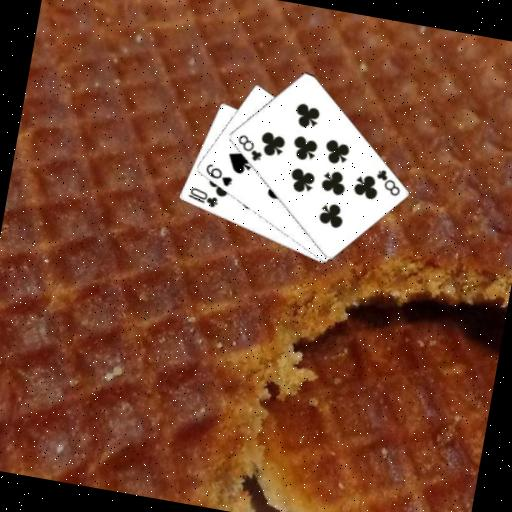10C: (183, 183, 221, 209)
6S: (199, 159, 235, 188)
8C: (370, 164, 405, 198), (231, 130, 266, 163)
